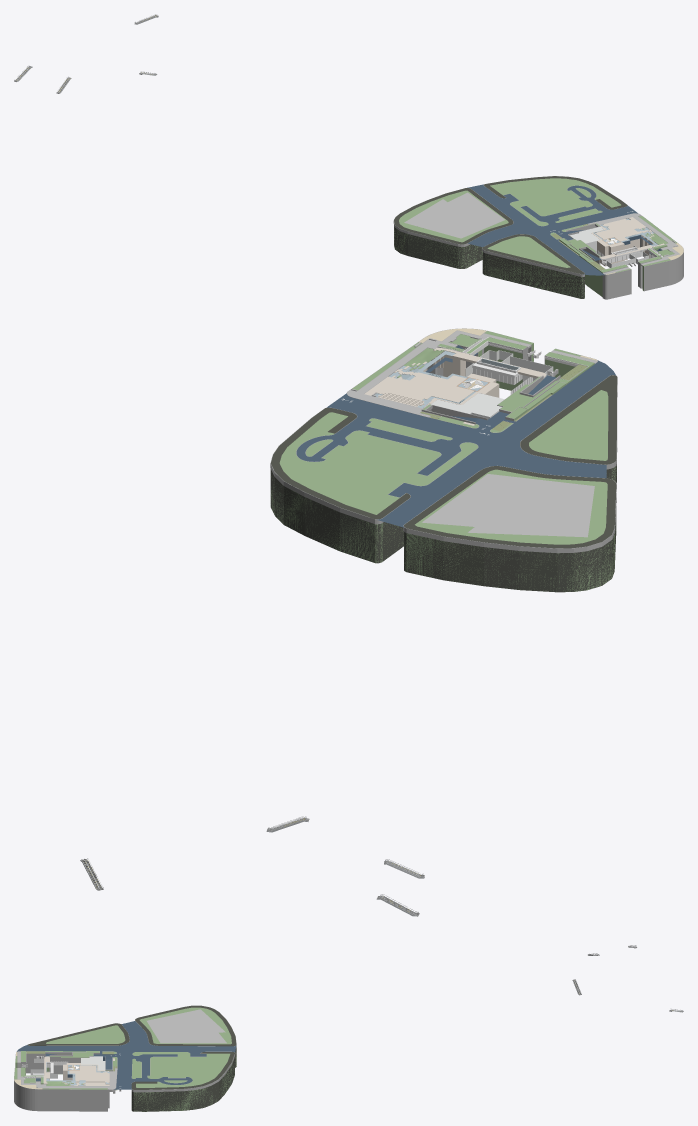
Rendered from lujiazui-29.glb.
3 renders of one model, top to bottom at view 1: azimuth 30°, elevation 25°; view 2: azimuth 150°, elevation 25°; view 3: azimuth 270°, elevation 25°, orthographic. The views are drawn at different scales.
Visible parts, largest first — view 1: source_3361_DX_草地_part0, source_3360_Mat3d66-1303573-2112-4460_part0, source_3301_Mat3d66-1303573-2113-6182_part0, source_3248_Mat3d66-1303573-2095-4192_part0, source_3262_Mat3d66-1303573-2114-8479_part0, source_3246_Mat3d66-1303573-2092-907_part0, source_3249_Mat3d66-1303573-2114-8479_part0, source_3260_Mat3d66-1303573-2115-1078_part0; view 2: source_3361_DX_草地_part0, source_3360_Mat3d66-1303573-2112-4460_part0, source_3301_Mat3d66-1303573-2113-6182_part0, source_3248_Mat3d66-1303573-2095-4192_part0, source_3249_Mat3d66-1303573-2114-8479_part0, source_3246_Mat3d66-1303573-2092-907_part0, source_3260_Mat3d66-1303573-2115-1078_part0, source_3303_Mat3d66-1303573-2089-910_part0, source_3321_Mat3d66-1303573-2092-907_part0; view 3: source_3361_DX_草地_part0, source_3360_Mat3d66-1303573-2112-4460_part0, source_3301_Mat3d66-1303573-2113-6182_part0, source_3262_Mat3d66-1303573-2114-8479_part0, source_3248_Mat3d66-1303573-2095-4192_part0, source_3249_Mat3d66-1303573-2114-8479_part0, source_3246_Mat3d66-1303573-2092-907_part0, source_3260_Mat3d66-1303573-2115-1078_part0, source_3283_Mat3d66-1303573-2114-8479_part0, source_3282_Mat3d66-1303573-2114-8479_part0.
Part boxes in pixels (x1=…): source_3361_DX_草地_part0: x1=394, y1=178, x2=620, y2=298; source_3360_Mat3d66-1303573-2112-4460_part0: x1=394, y1=176, x2=627, y2=298; source_3301_Mat3d66-1303573-2113-6182_part0: x1=467, y1=184, x2=637, y2=275; source_3248_Mat3d66-1303573-2095-4192_part0: x1=404, y1=192, x2=504, y2=238; source_3262_Mat3d66-1303573-2114-8479_part0: x1=551, y1=216, x2=683, y2=299; source_3246_Mat3d66-1303573-2092-907_part0: x1=591, y1=222, x2=639, y2=266; source_3249_Mat3d66-1303573-2114-8479_part0: x1=393, y1=176, x2=640, y2=276; source_3260_Mat3d66-1303573-2115-1078_part0: x1=588, y1=213, x2=679, y2=266; source_3361_DX_草地_part0: x1=270, y1=390, x2=616, y2=592; source_3360_Mat3d66-1303573-2112-4460_part0: x1=270, y1=375, x2=617, y2=592; source_3301_Mat3d66-1303573-2113-6182_part0: x1=296, y1=360, x2=616, y2=527; source_3248_Mat3d66-1303573-2095-4192_part0: x1=422, y1=474, x2=594, y2=537; source_3249_Mat3d66-1303573-2114-8479_part0: x1=270, y1=375, x2=617, y2=553; source_3246_Mat3d66-1303573-2092-907_part0: x1=391, y1=373, x2=499, y2=410; source_3260_Mat3d66-1303573-2115-1078_part0: x1=347, y1=330, x2=531, y2=417; source_3303_Mat3d66-1303573-2089-910_part0: x1=430, y1=393, x2=504, y2=419; source_3321_Mat3d66-1303573-2092-907_part0: x1=364, y1=361, x2=426, y2=406; source_3361_DX_草地_part0: x1=46, y1=1007, x2=236, y2=1111; source_3360_Mat3d66-1303573-2112-4460_part0: x1=28, y1=1005, x2=236, y2=1111; source_3301_Mat3d66-1303573-2113-6182_part0: x1=17, y1=1021, x2=236, y2=1089; source_3262_Mat3d66-1303573-2114-8479_part0: x1=14, y1=1051, x2=116, y2=1111; source_3248_Mat3d66-1303573-2095-4192_part0: x1=146, y1=1009, x2=226, y2=1043; source_3249_Mat3d66-1303573-2114-8479_part0: x1=28, y1=1006, x2=236, y2=1092; source_3246_Mat3d66-1303573-2092-907_part0: x1=63, y1=1063, x2=104, y2=1080; source_3260_Mat3d66-1303573-2115-1078_part0: x1=17, y1=1068, x2=117, y2=1089; source_3283_Mat3d66-1303573-2114-8479_part0: x1=26, y1=1051, x2=45, y2=1073; source_3282_Mat3d66-1303573-2114-8479_part0: x1=45, y1=1052, x2=80, y2=1062.
Bounding box in the file's own units: 352 × 34.18 × 692.
